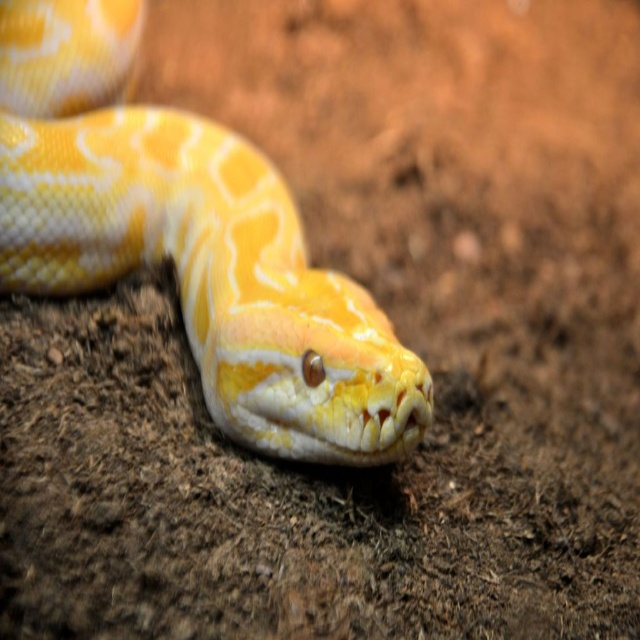Snake: (0, 0, 434, 462)
